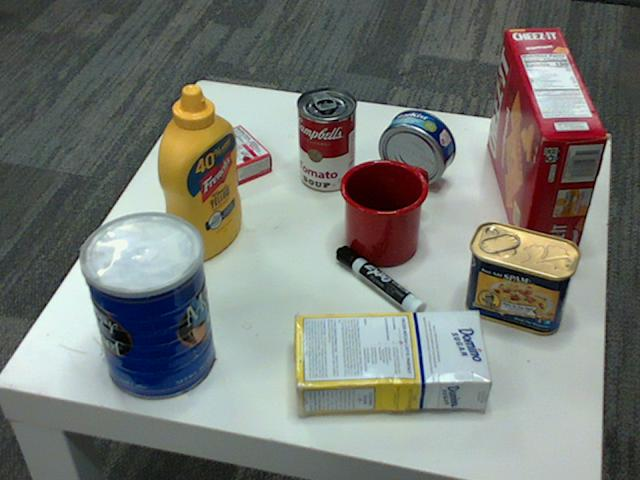cracker_box: (486, 26, 607, 259)
gelatin_box: (178, 122, 272, 193)
large_marker: (336, 247, 425, 322)
master_chef_can: (76, 213, 213, 401)
mug: (337, 157, 427, 264)
mustard_bottle: (155, 84, 241, 263)
potted_meat_can: (463, 221, 579, 335)
sugar_box: (289, 308, 489, 412)
tomato_soup_can: (296, 88, 356, 192)
tuna_fish_can: (377, 109, 454, 185)
